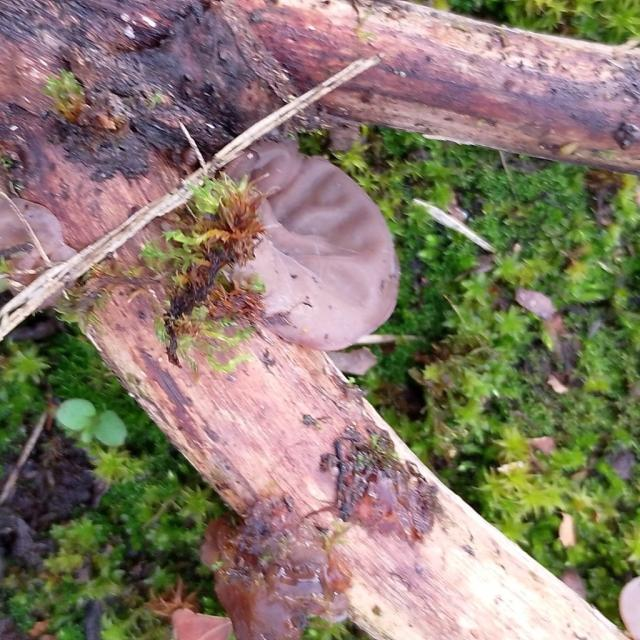Matang: (220, 134, 412, 358)
